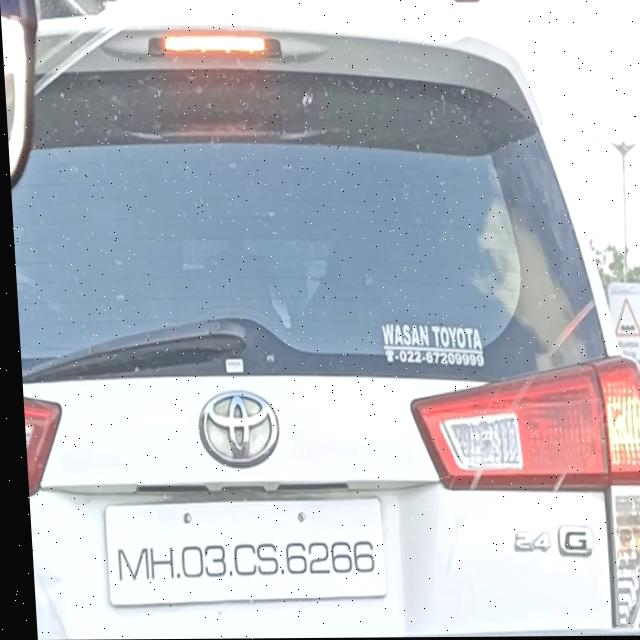plate: (95, 495, 381, 606)
